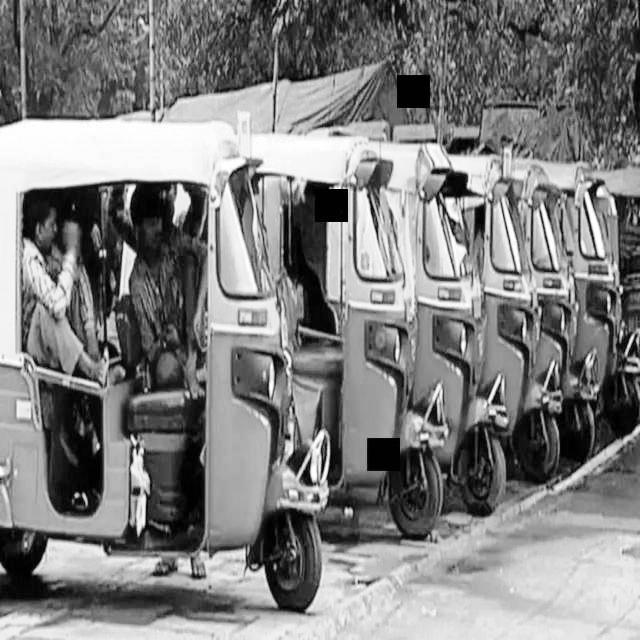Auto-Rickshaw: (1, 116, 325, 620), (235, 124, 449, 552), (368, 136, 511, 527), (507, 156, 640, 509), (448, 149, 566, 513)
